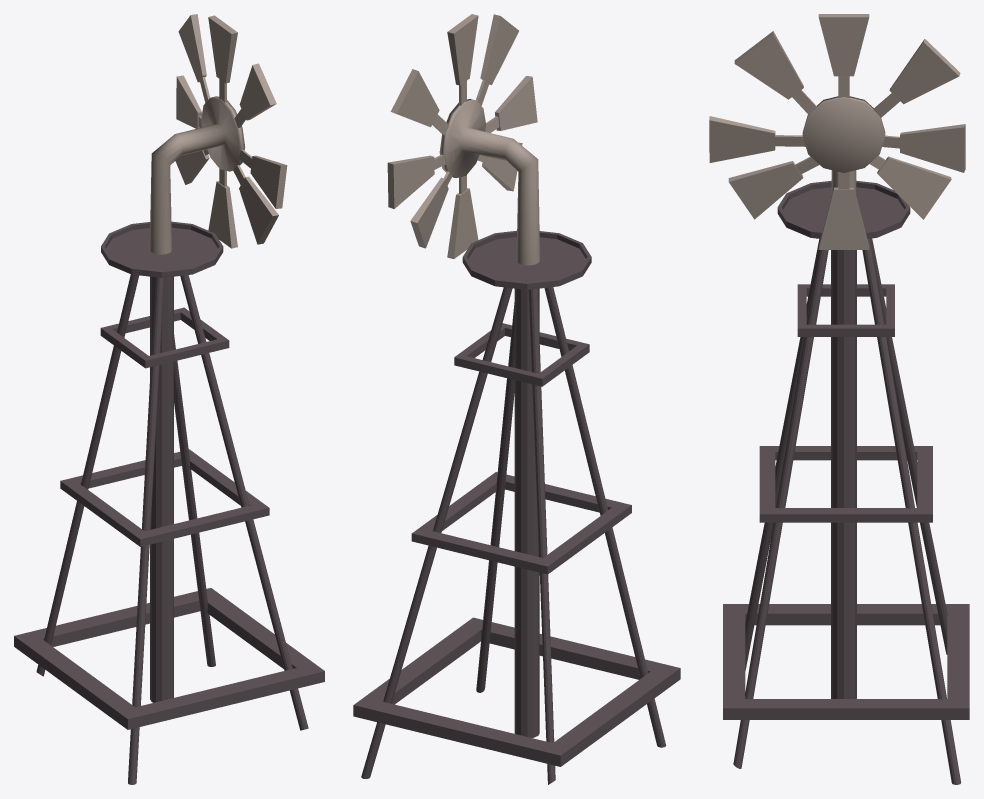
Rendered from FBX_Molino.fbx.
3 renders of one model, left to right at view 1: azimuth 30°, elevation 25°; view 2: azimuth 150°, elevation 25°; view 3: azimuth 270°, elevation 25°, orthographic. The views are drawn at different scales.
Visible parts, largest first — view 1: pCube35; view 2: pCube35; view 3: pCube35.
Part boxes in pixels (bbox=[...]): pCube35: bbox=[14, 14, 324, 784]; pCube35: bbox=[353, 14, 680, 784]; pCube35: bbox=[709, 14, 969, 784].
Size of the model in its own units: 119 by 398 by 126.
